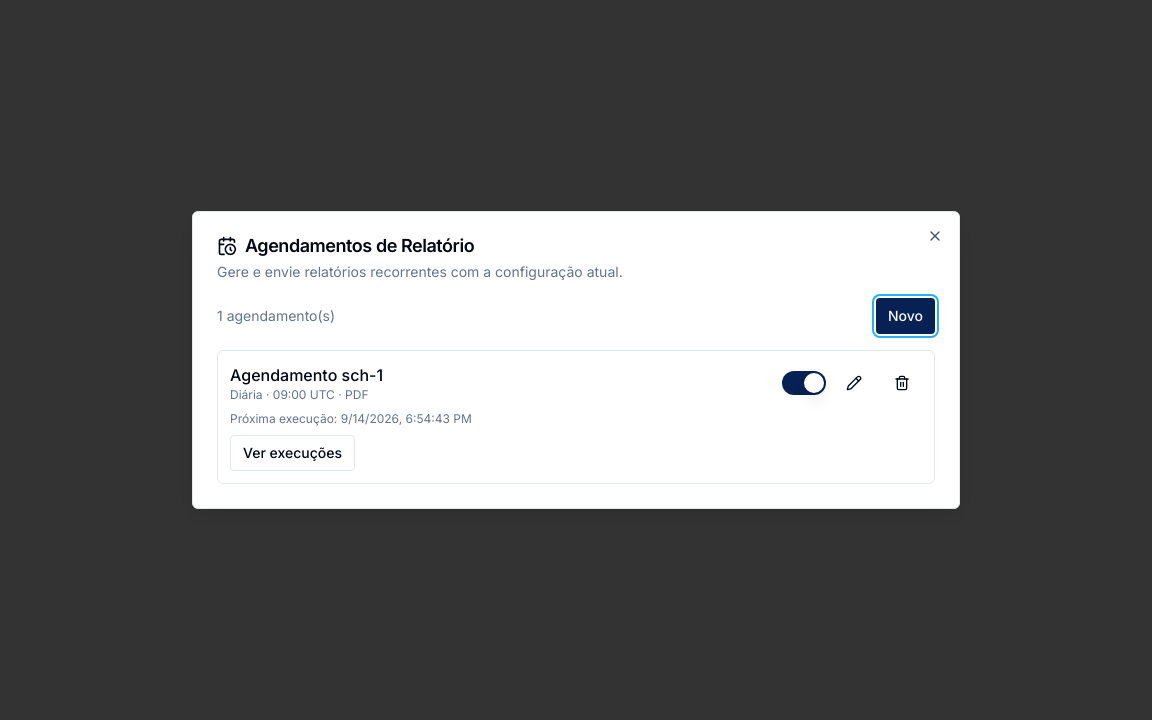
ScheduleList — P5.2 resign UI › clicar em 'Regenerar link' chama resignRun e atualiza o link no sucesso
Expected: the text "Agendamento sch-1" is shown, [230, 363, 383, 387]
Click the button "Ver execuções" at (292, 453), box [230, 435, 355, 471]
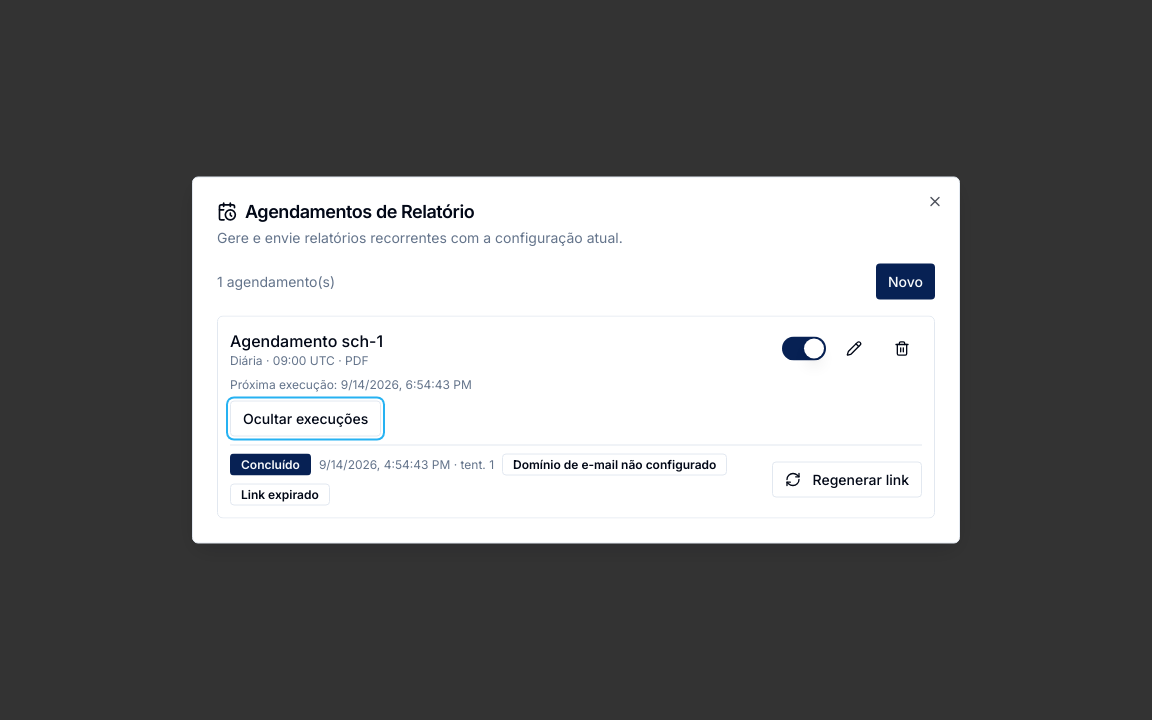
Click the button with test id "resign-button-run-1" at (847, 480), box [772, 462, 922, 498]
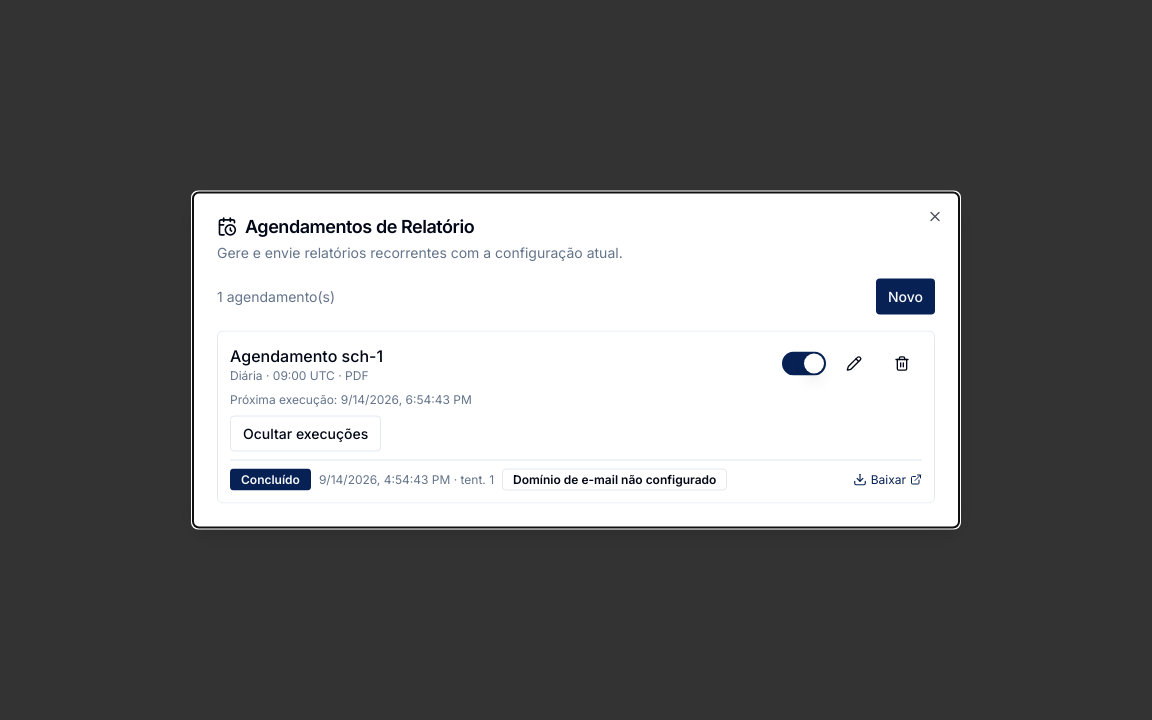
Result: the text with test id "expired-badge-run-1" is gone
